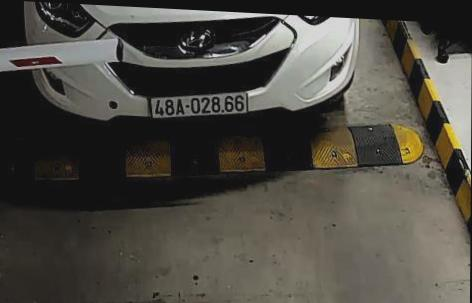License_Plate: (150, 88, 249, 122)
